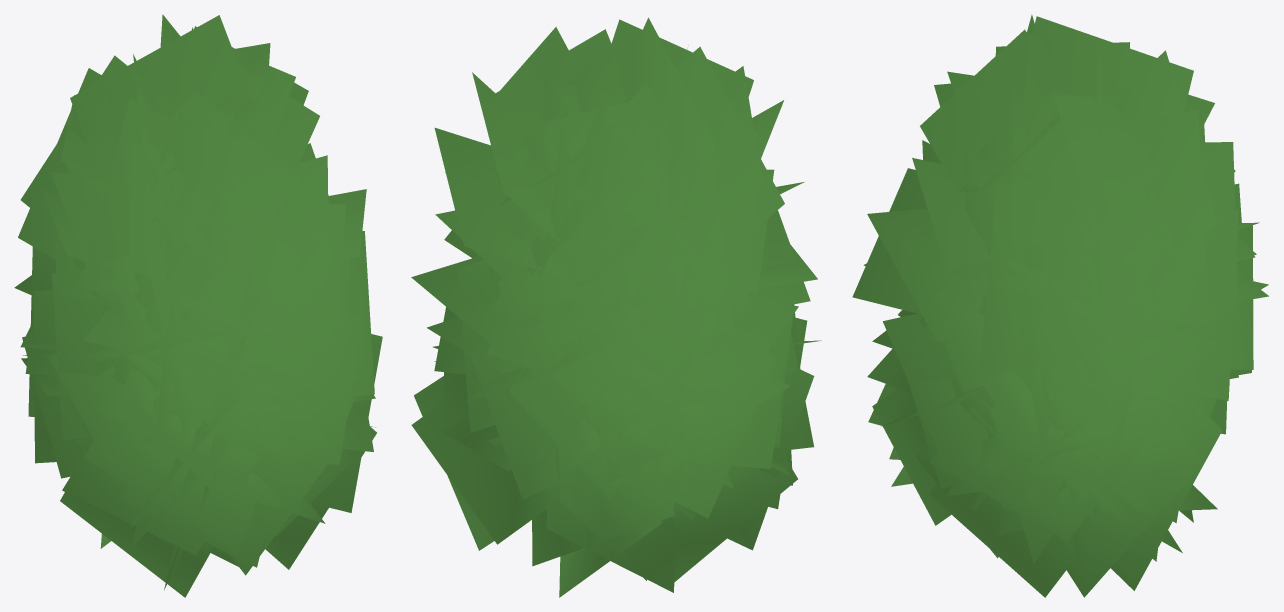
Rendered from bush-2.glb.
3 views of the same model, side by side, from view 1: azimuth 30°, elevation 25°; view 2: azimuth 150°, elevation 25°; view 3: azimuth 270°, elevation 25° (orthographic). The views are drawn at different scales.
Visible parts, largest first — view 1: Node; view 2: Node; view 3: Node.
Boxes of the visible parts, box(x1,y1,x2,y2) form: Node: box(14, 14, 382, 597); Node: box(411, 17, 821, 597); Node: box(852, 14, 1268, 597).
Bounding box in the file's own units: 1.4 × 2.11 × 1.5.
